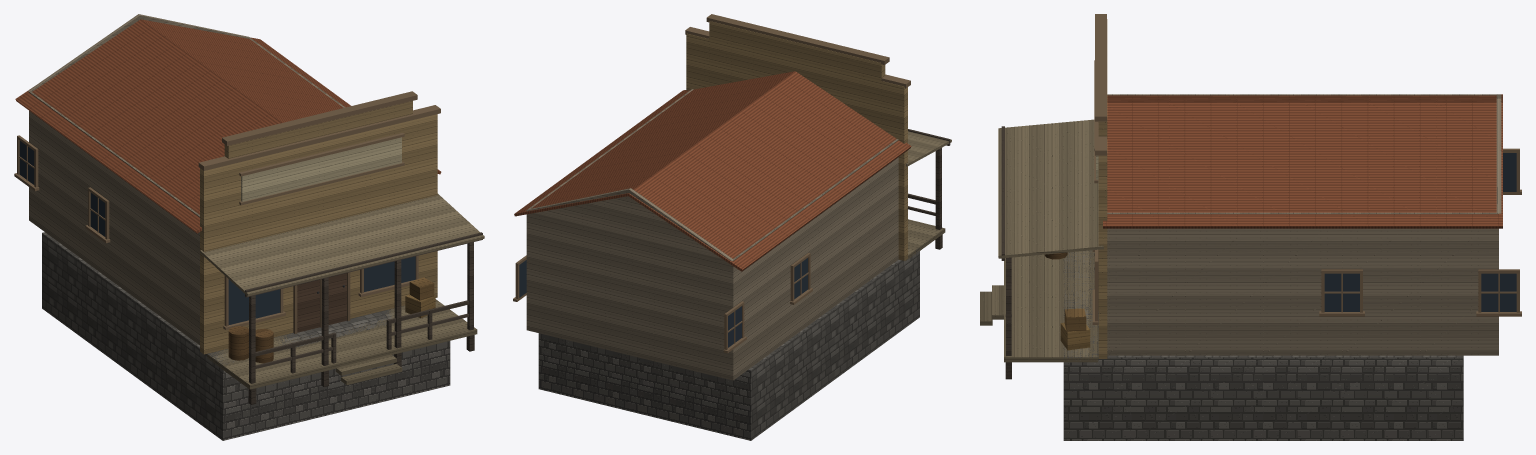
File: armazem_velho.glb
3 renders of one model, left to right at view 1: azimuth 30°, elevation 25°; view 2: azimuth 150°, elevation 25°; view 3: azimuth 270°, elevation 25°, orthographic. The views are drawn at different scales.
Parts seen in each view (by area): view 1: armazem_velho_madeira, armazem_velho; view 2: armazem_velho, armazem_velho_madeira; view 3: armazem_velho, armazem_velho_madeira.
Part boxes in pixels (x1=…): armazem_velho_madeira: x1=28, y1=14, x2=484, y2=404; armazem_velho: x1=14, y1=19, x2=450, y2=440; armazem_velho: x1=513, y1=14, x2=919, y2=440; armazem_velho_madeira: x1=526, y1=21, x2=951, y2=380; armazem_velho: x1=1063, y1=14, x2=1521, y2=440; armazem_velho_madeira: x1=980, y1=19, x2=1501, y2=379.
Bounding box in the file's own units: 7.97 × 8.84 × 13.81.
Materials: 4 (3 with a texture image).
